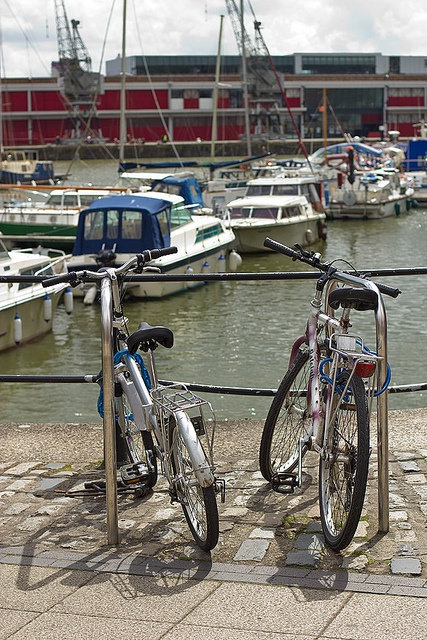non-vehicle: (48, 247, 222, 551), (259, 238, 396, 541)
